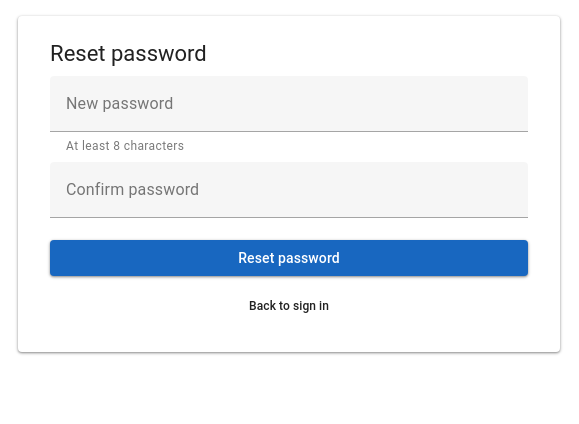
Feature 70 — Email Password Reset and Failed Sign-In Limits › US-70.1 — Reset a forgotten password by email › Reset password page checks the passwords before sending
Type "new-password1" into the password field labelled "New password".
click(289, 104); type("new-password1")  # box 50,76 -> 528,132
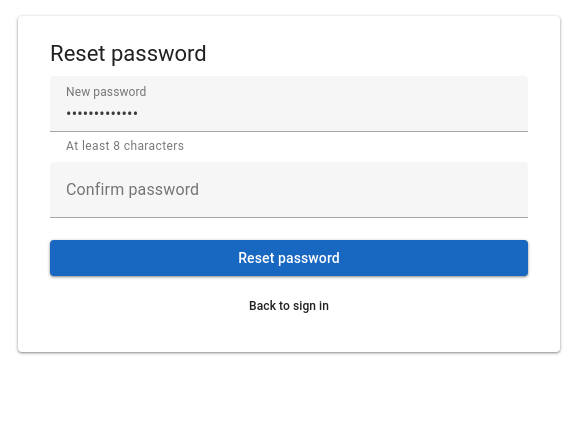
Type "different1" into the password field labelled "Confirm password".
click(289, 190); type("different1")  # box 50,162 -> 528,218
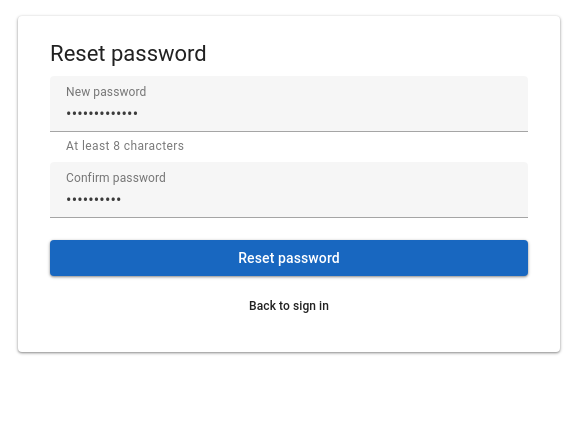
Submit the form, box 50,76 -> 528,276
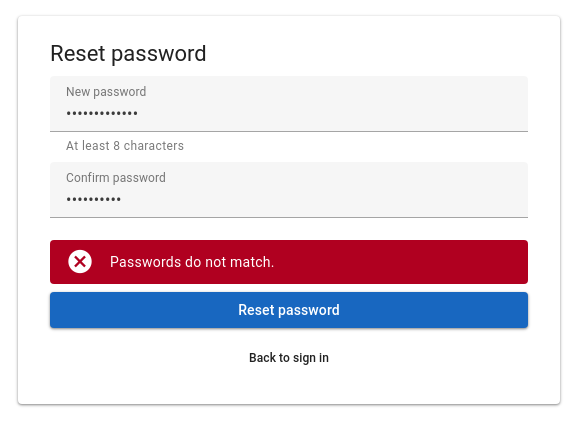
Now the text "Passwords do not match." is shown, box 110,254 -> 275,270
